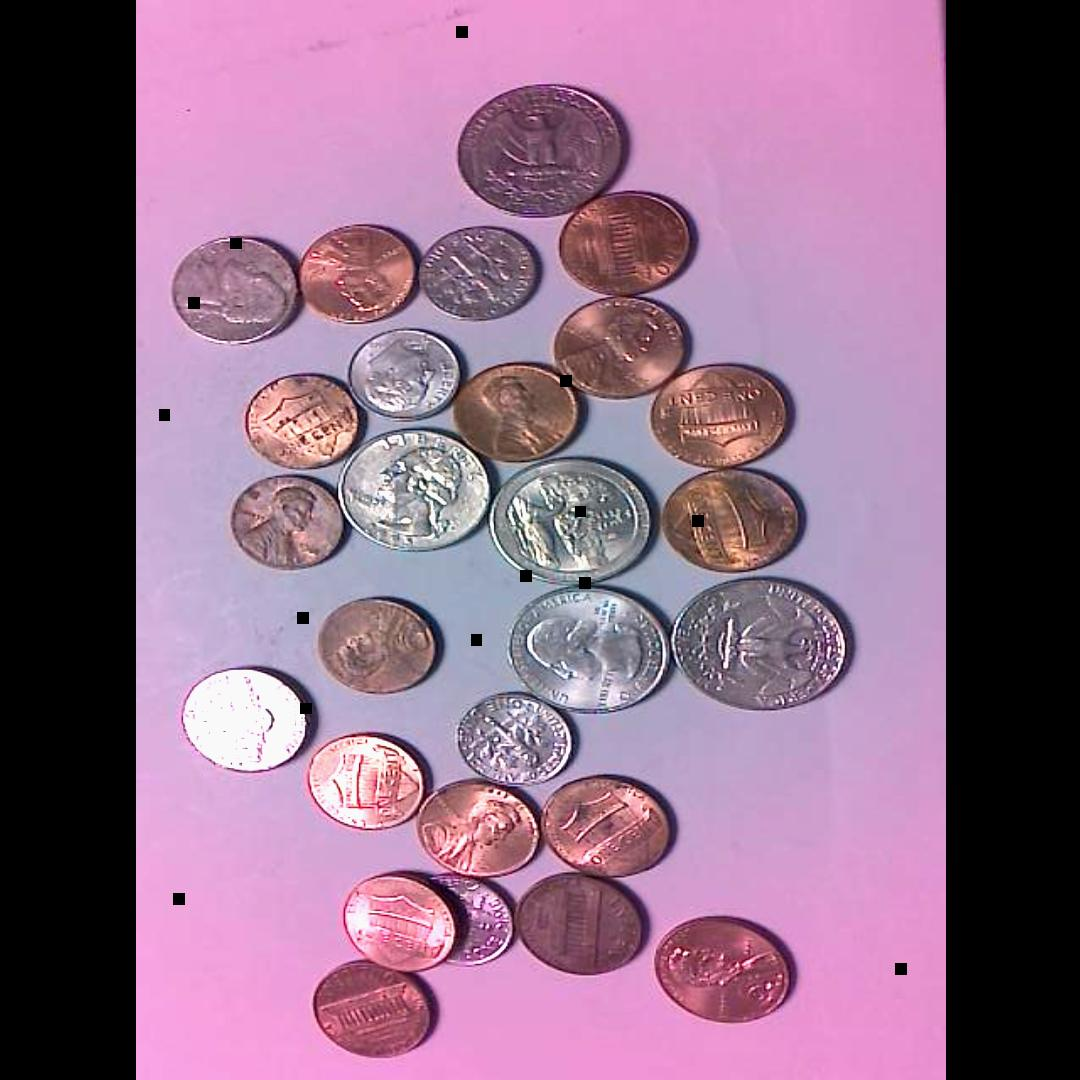Dime: (414, 226, 544, 324), (342, 325, 467, 420), (456, 689, 572, 787)
Nickel: (167, 233, 300, 346), (177, 668, 305, 775)
Penny: (642, 357, 794, 473), (550, 185, 695, 298), (655, 916, 796, 1024), (661, 467, 797, 572), (556, 299, 695, 400), (298, 218, 426, 326), (515, 873, 646, 978), (447, 364, 582, 464), (412, 780, 543, 883), (544, 778, 672, 876), (309, 964, 435, 1061), (241, 371, 361, 469), (302, 736, 422, 834), (339, 874, 456, 974), (316, 601, 435, 694), (228, 476, 343, 572)
Quarter: (672, 574, 846, 712), (456, 79, 631, 215), (483, 459, 655, 582), (507, 587, 668, 717), (338, 427, 498, 554)
